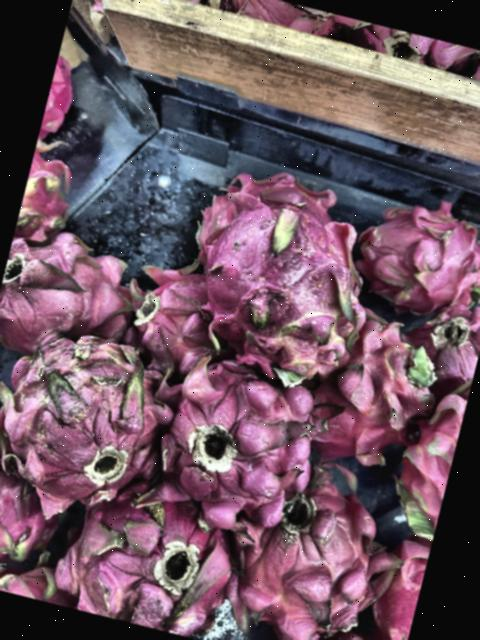buah-naga-belum-matang: (15, 134, 83, 243)
buah-naga-matang: (184, 182, 383, 381), (138, 336, 346, 522), (0, 313, 192, 514), (56, 458, 257, 640), (223, 461, 402, 640), (306, 296, 441, 472), (0, 214, 152, 362), (344, 180, 480, 320), (0, 401, 77, 586), (388, 374, 471, 542), (124, 250, 234, 370), (393, 290, 480, 386), (366, 533, 431, 640)
